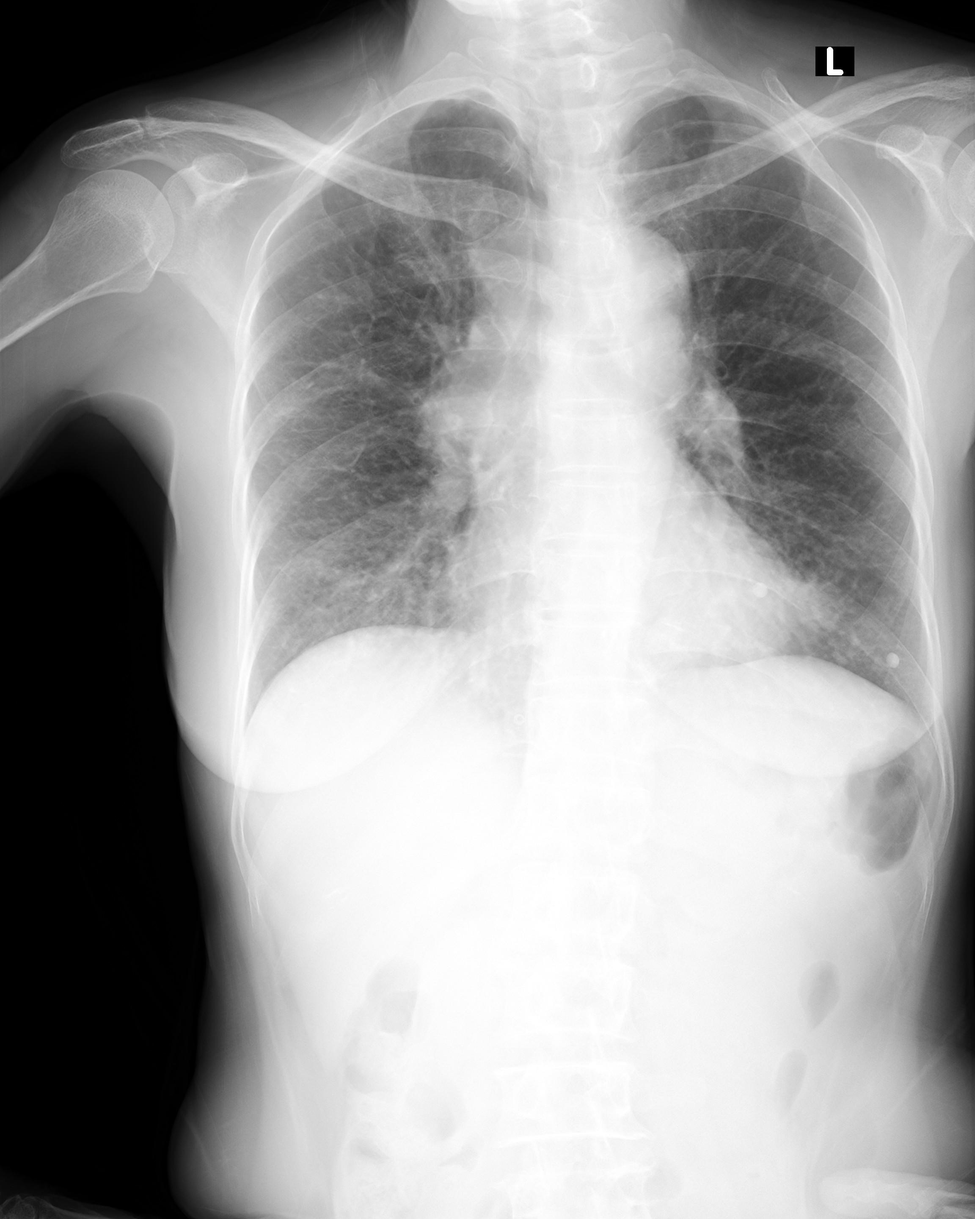Aortic enlargement: (596, 222, 694, 334)
Pulmonary fibrosis: (777, 578, 838, 637)
